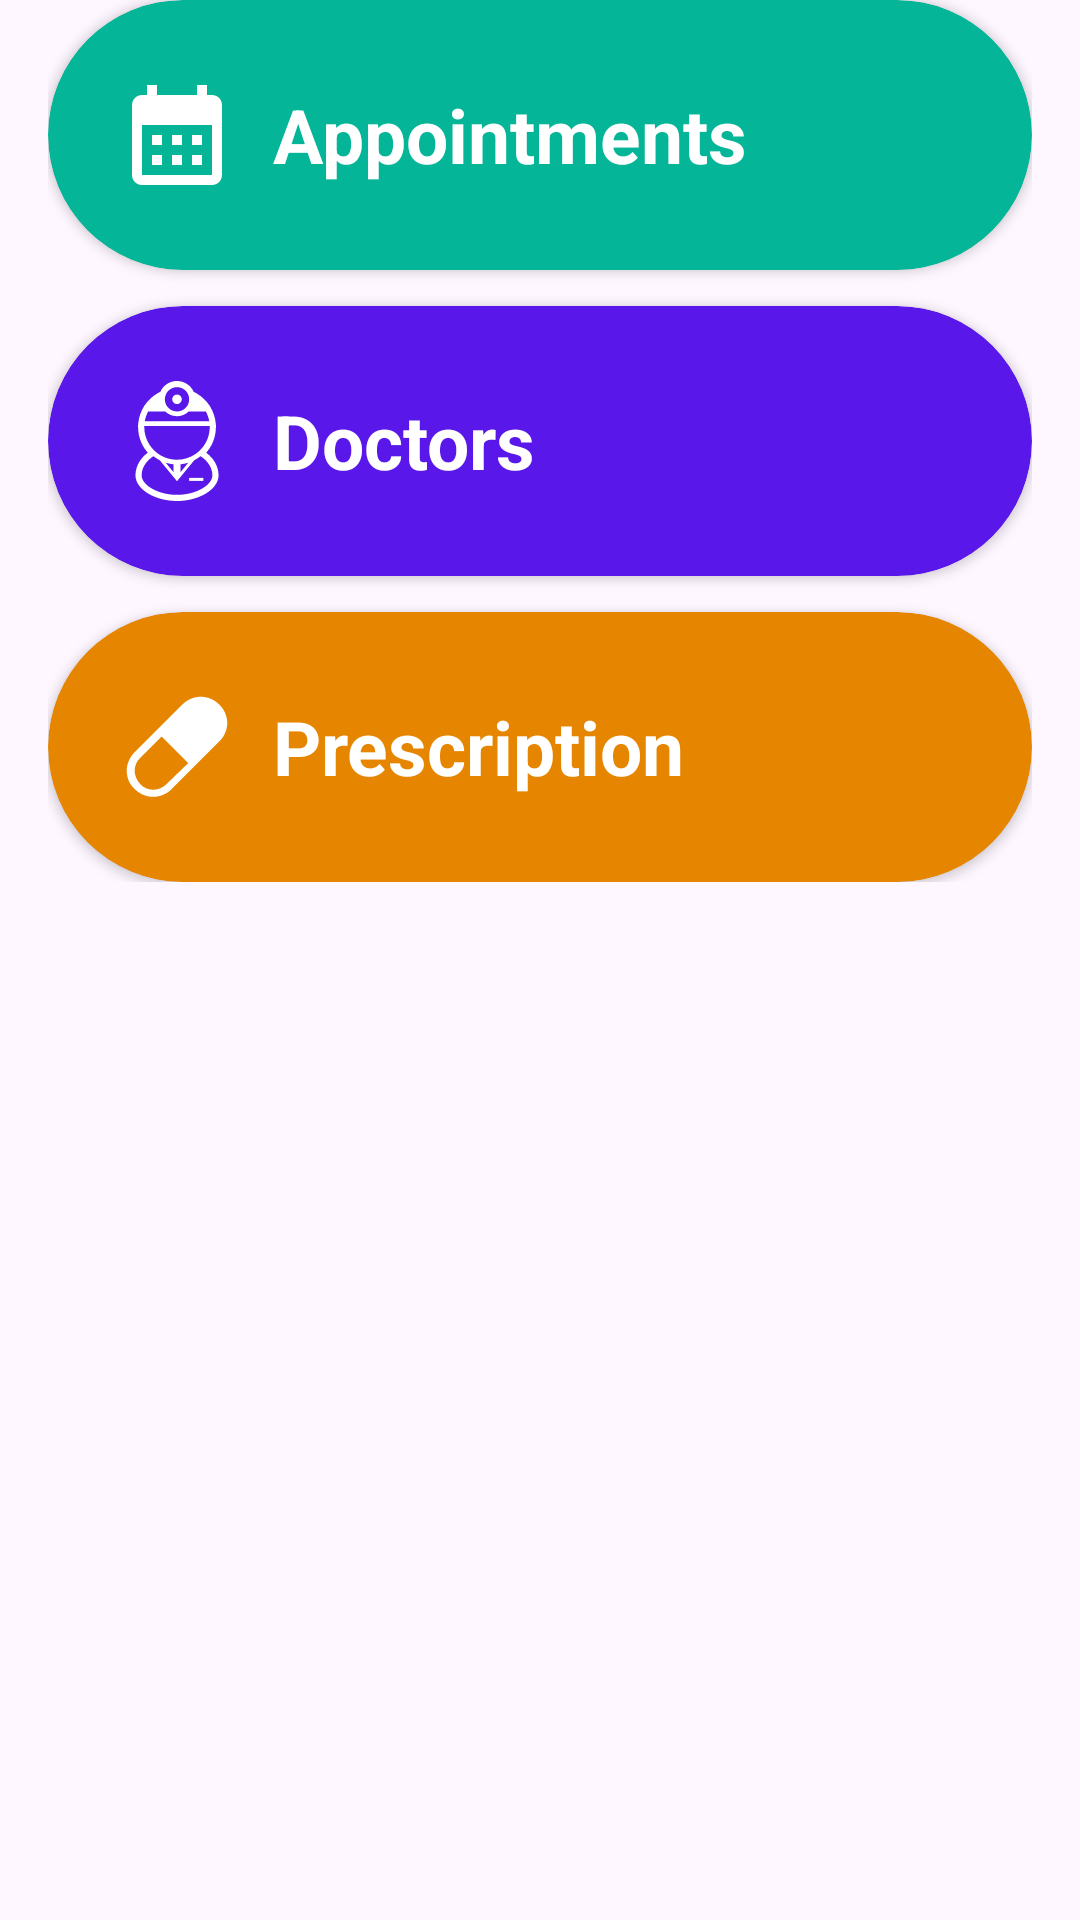

Icon bounding boxes for this 1080 x 1920 phone screenshot, format (x1, y1, x2, y2):
calendar: (132, 85, 222, 185)
pill: (126, 696, 228, 797)
